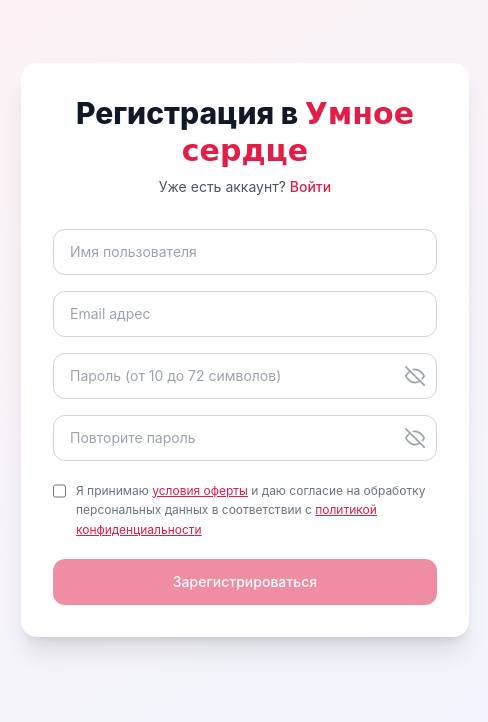
Register › shows duplicate user error on 409
Type "anna" into the field with placeholder "Имя пользователя".
click(245, 252); type("anna")  # box [53, 229, 437, 275]
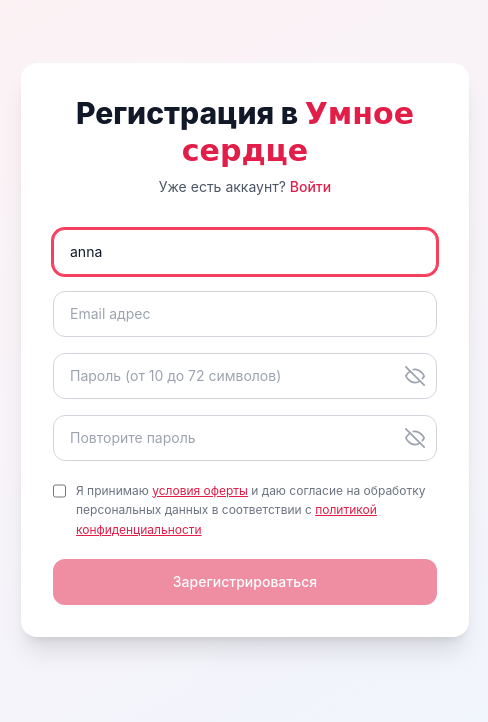
Type "anna@example.com" into the field with placeholder "Email адрес".
click(245, 314); type("anna@example.com")  # box [53, 291, 437, 337]
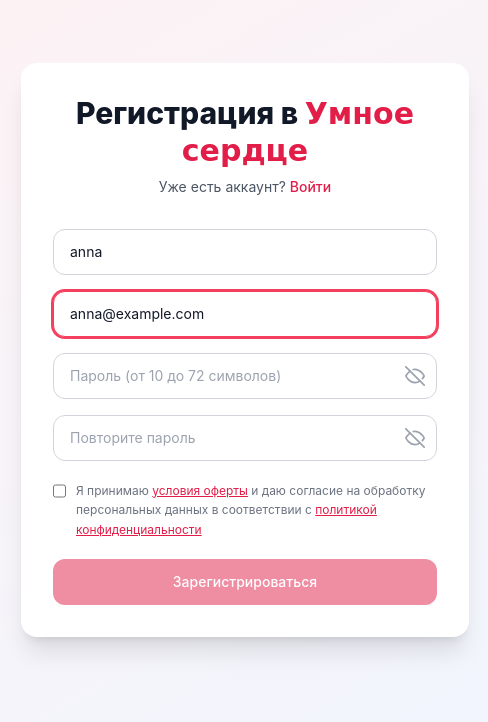
Type "Password123!" into the password field with placeholder "Пароль (от 10 до 72 символов)".
click(245, 376); type("Password123!")  # box [53, 353, 437, 399]
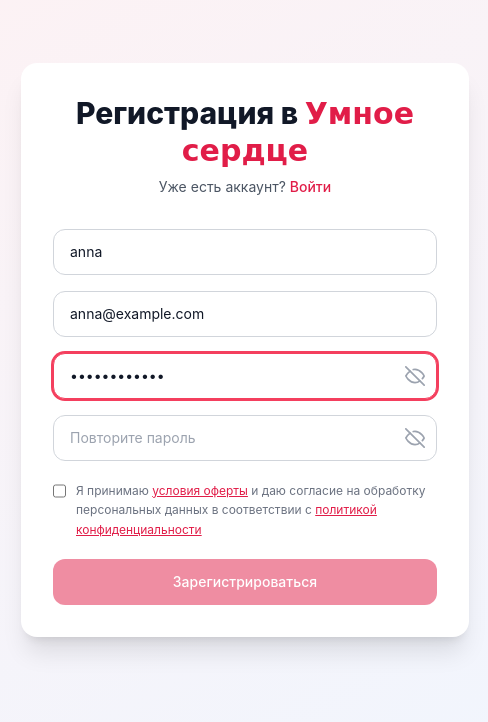
Type "Password123!" into the password field with placeholder "Повторите пароль".
click(245, 438); type("Password123!")  # box [53, 415, 437, 461]
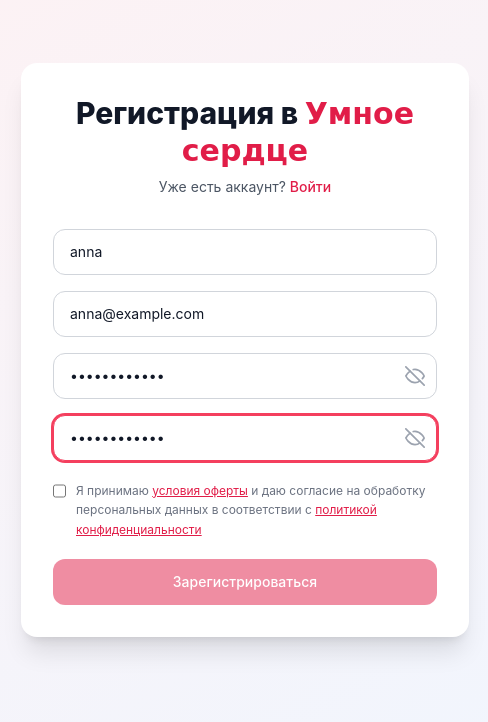
Click the checkbox.
click(60, 491)  # box [53, 483, 66, 499]
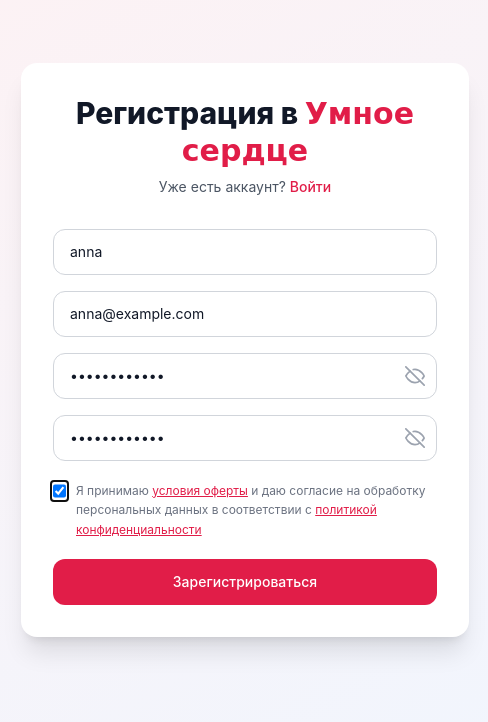
Click the button "Зарегистрироваться".
click(245, 582)  # box [53, 559, 437, 605]
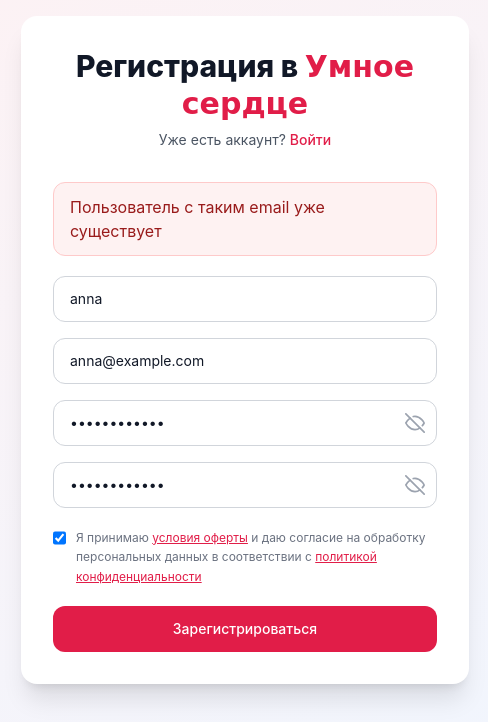
expect the text "Пользователь с таким email уже существует" is shown: met, box [53, 182, 437, 256]
